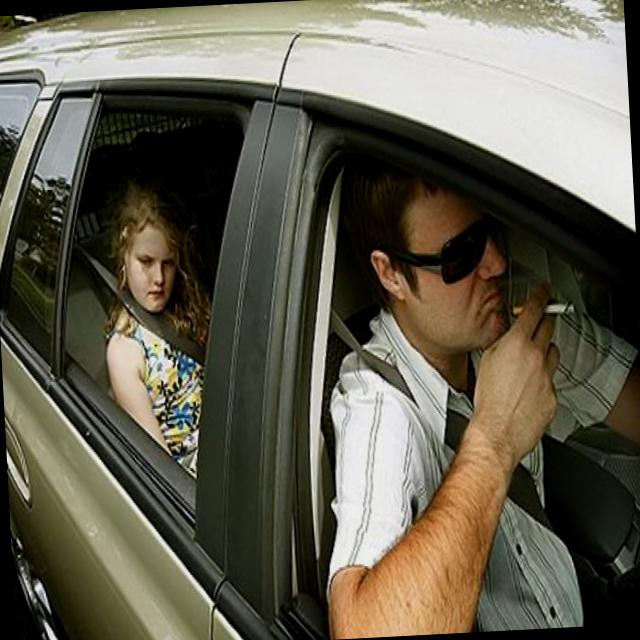cigarette: (504, 273, 582, 341)
